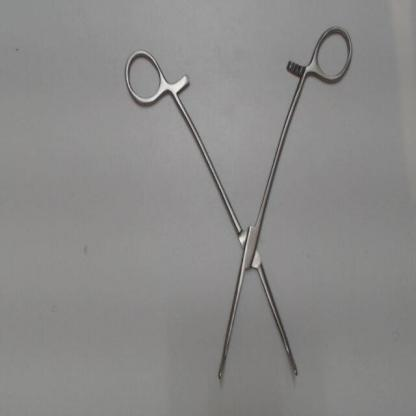Lahey Forceps: (118, 21, 354, 386)
